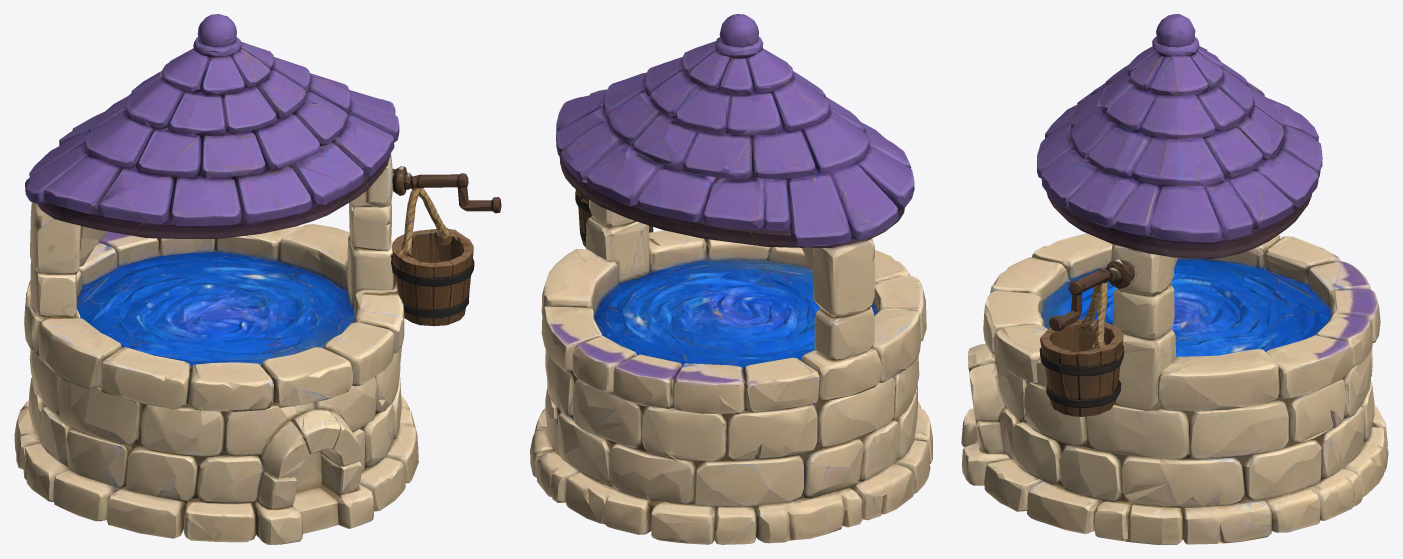
File: place_well_mobile.glb
The picture shows the model from 3 angles, left to right: view 1: azimuth 30°, elevation 25°; view 2: azimuth 150°, elevation 25°; view 3: azimuth 270°, elevation 25°; orthographic projection.
Size of the model in its own units: 1.79 by 1.9 by 1.66.
1 material, 1 textured.
